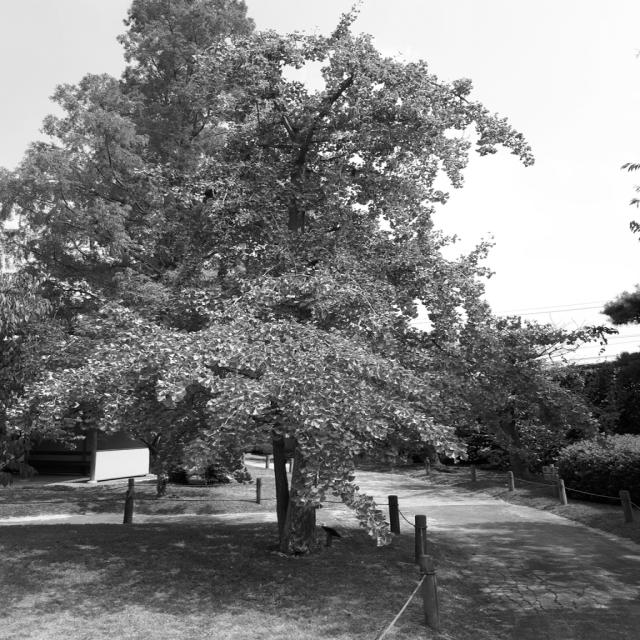ginkgo: (0, 0, 623, 554)
